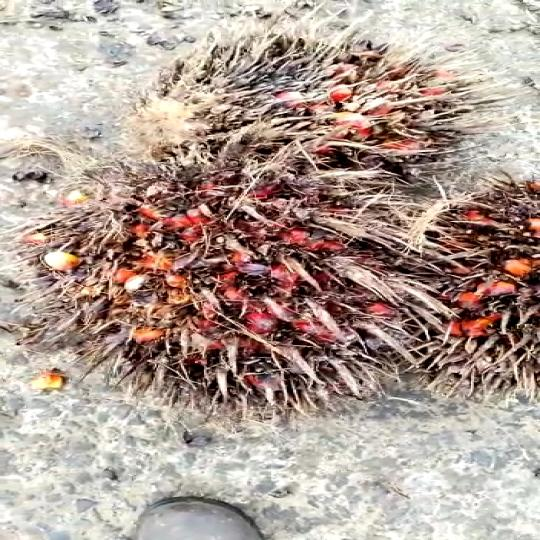terlalu masak: (25, 164, 458, 393), (117, 41, 478, 191)
